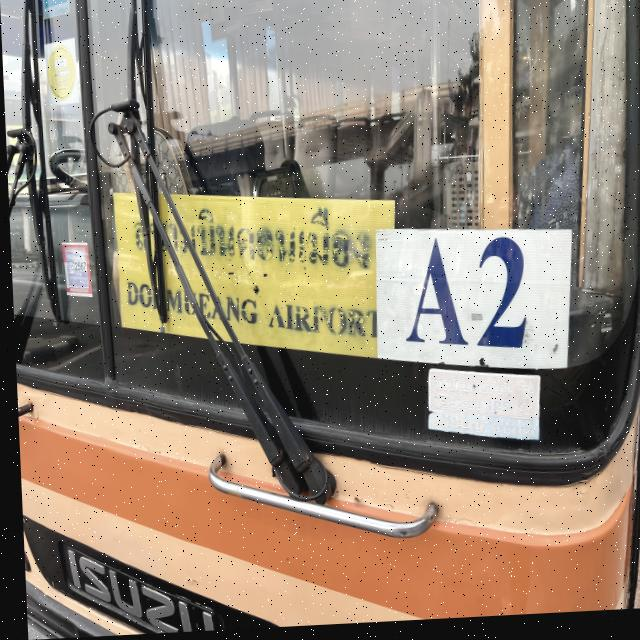Destination Sign: (110, 180, 401, 380)
